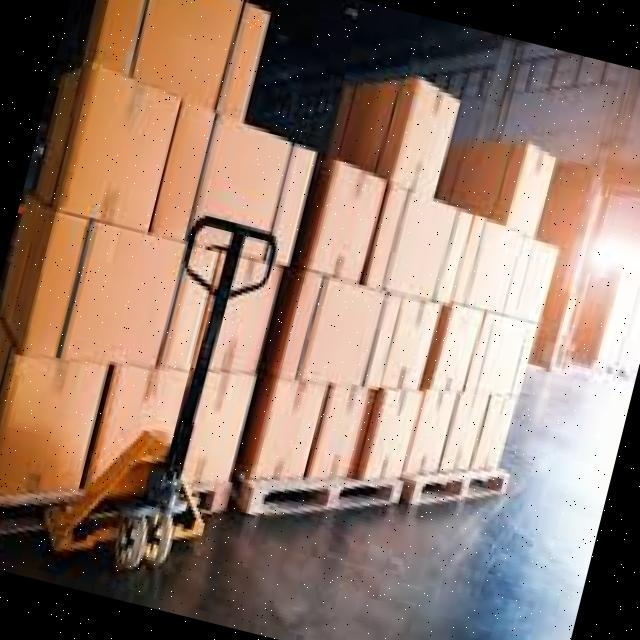Wooden-Pallets: (245, 466, 402, 531), (402, 460, 516, 515)
